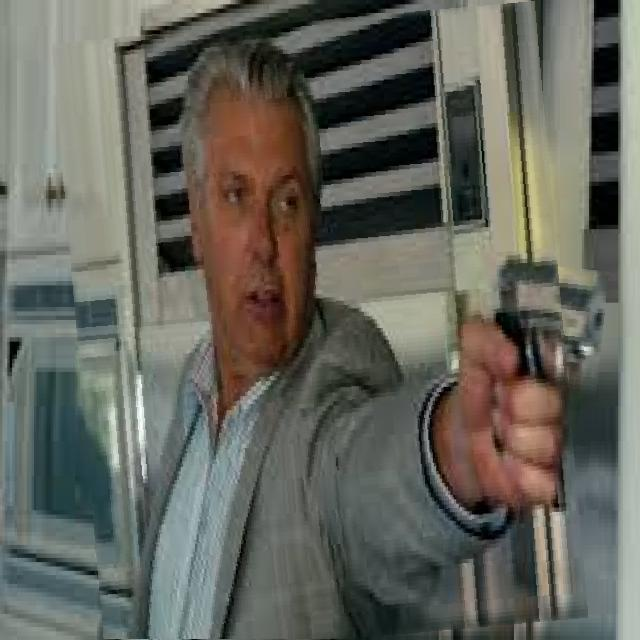Gun_Holder: (442, 224, 640, 468)
Person: (103, 49, 546, 640)
